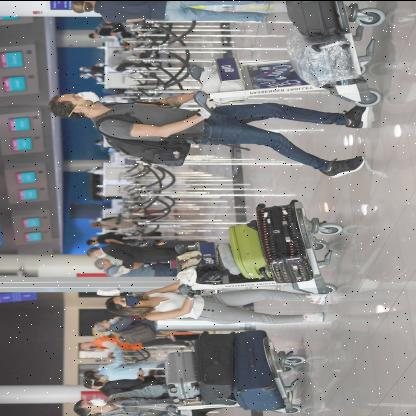airport-trolley: (188, 0, 387, 115), (176, 198, 348, 304), (162, 326, 308, 416)
